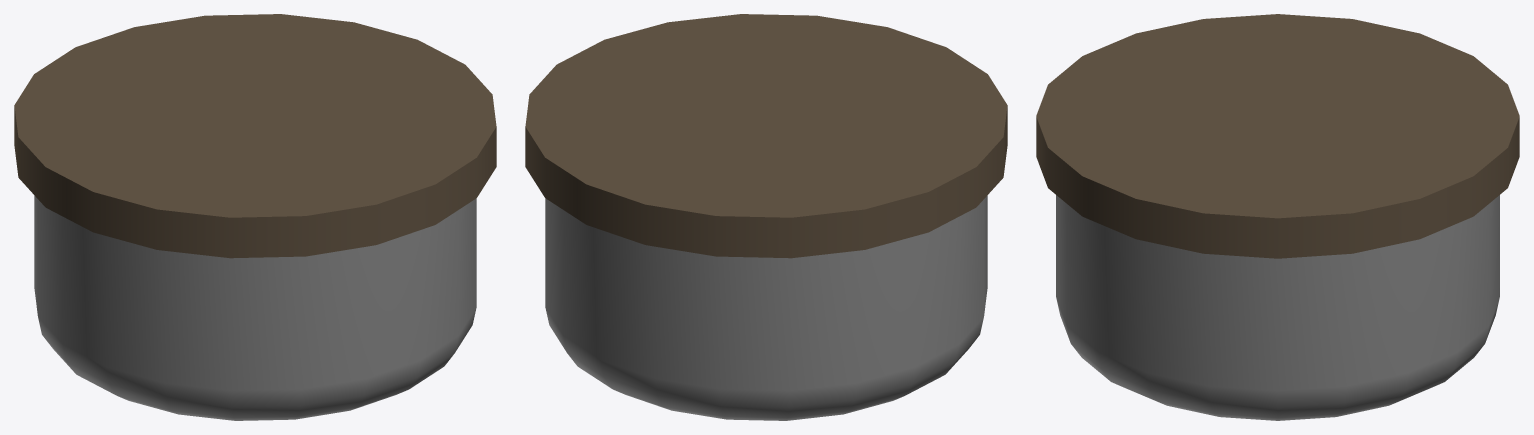
File: SM_CeilingLight_001.fbx
3 renders of one model, left to right at view 1: azimuth 30°, elevation 25°; view 2: azimuth 150°, elevation 25°; view 3: azimuth 270°, elevation 25°, orthographic.
Visible parts, largest first — view 1: pCylinder60; view 2: pCylinder60; view 3: pCylinder60.
Part boxes in pixels (left/top/right/bottom): pCylinder60: left=14, top=14, right=496, bottom=420; pCylinder60: left=525, top=14, right=1007, bottom=420; pCylinder60: left=1036, top=14, right=1519, bottom=420.
Bounding box in the file's own units: 27.57 × 16.42 × 27.57.
